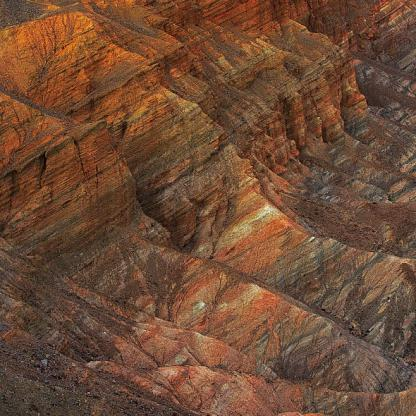Sedimentary_Sandstone: (143, 14, 368, 214), (177, 154, 415, 341), (161, 232, 399, 415), (1, 84, 138, 255), (0, 0, 132, 81)
